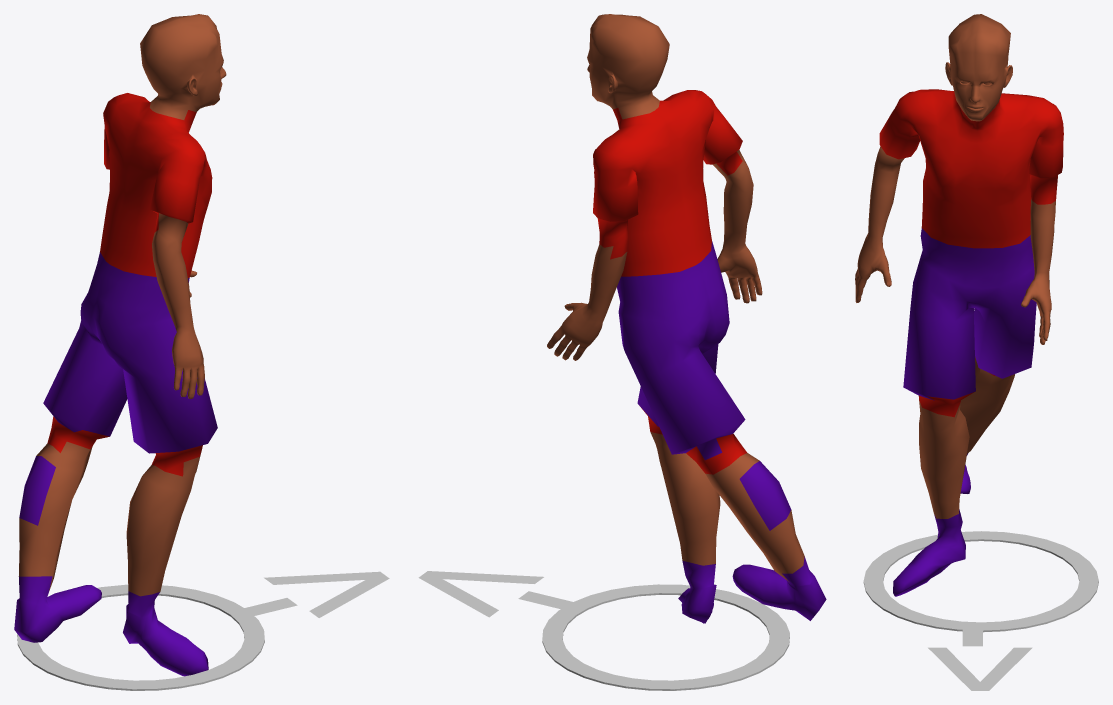
File: player_000021.obj
The picture shows the model from 3 angles, left to right: view 1: azimuth 30°, elevation 25°; view 2: azimuth 150°, elevation 25°; view 3: azimuth 270°, elevation 25°; orthographic projection. The views are drawn at different scales.
Parts seen in each view (by area): view 1: soccerplayer.002_mesh.003, Circle, Text.001_Mesh.001; view 2: soccerplayer.002_mesh.003, Circle, Text.001_Mesh.001; view 3: soccerplayer.002_mesh.003, Circle, Text.001_Mesh.001.
Part boxes in pixels (bbox=[...]): soccerplayer.002_mesh.003: bbox=[14, 14, 226, 676]; Circle: bbox=[17, 584, 264, 690]; Text.001_Mesh.001: bbox=[239, 571, 389, 617]; soccerplayer.002_mesh.003: bbox=[547, 14, 826, 623]; Circle: bbox=[542, 584, 789, 690]; Text.001_Mesh.001: bbox=[418, 571, 576, 617]; soccerplayer.002_mesh.003: bbox=[855, 14, 1063, 596]; Circle: bbox=[863, 531, 1098, 632]; Text.001_Mesh.001: bbox=[928, 624, 1032, 690].
Size of the model in its own units: 1.94 by 3 by 1.13.
